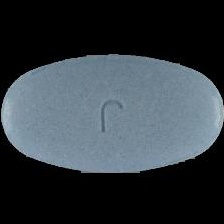61786-384: (0, 0, 224, 224)
